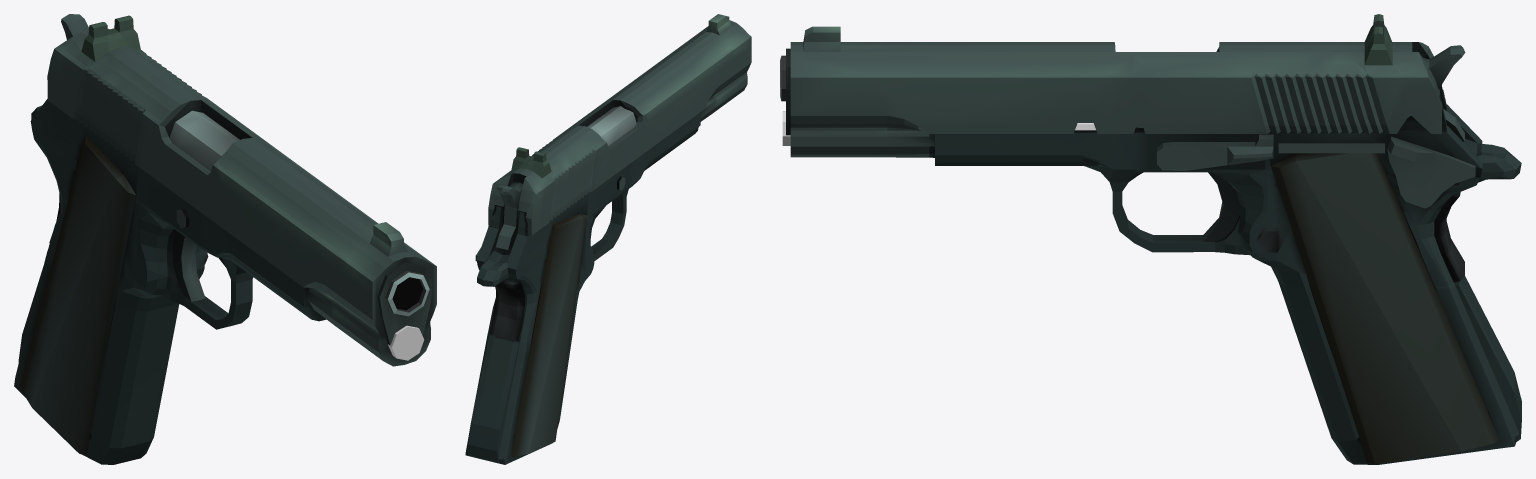
File: colt_1911_a1_fixed.FBX
3 views of the same model, side by side, from view 1: azimuth 30°, elevation 25°; view 2: azimuth 150°, elevation 25°; view 3: azimuth 270°, elevation 25° (orthographic). The views are drawn at different scales.
Parts seen in each view (by area): view 1: slide, reciever, stock, barrel, barrel bushing, trigger, recoil spring plug, hammer; view 2: slide, reciever, stock, grip safety, hammer, barrel; view 3: slide, stock, reciever, safety, slide stop, grip safety, trigger, plunger tube, hammer.
Boxes of the visible parts, bbox=[...] form: slide: bbox=[47, 15, 436, 366]; reciever: bbox=[14, 99, 326, 464]; stock: bbox=[20, 135, 135, 455]; barrel: bbox=[169, 110, 429, 316]; barrel bushing: bbox=[377, 262, 432, 345]; trigger: bbox=[173, 231, 205, 301]; recoil spring plug: bbox=[388, 325, 424, 360]; hammer: bbox=[61, 14, 88, 39]; slide: bbox=[488, 14, 751, 235]; reciever: bbox=[465, 112, 700, 464]; stock: bbox=[511, 214, 586, 456]; grip safety: bbox=[489, 280, 524, 340]; hammer: bbox=[496, 182, 523, 249]; barrel: bbox=[587, 106, 636, 146]; slide: bbox=[790, 14, 1441, 157]; stock: bbox=[1271, 142, 1499, 464]; reciever: bbox=[935, 85, 1521, 464]; safety: bbox=[1387, 136, 1475, 208]; slide stop: bbox=[1157, 134, 1273, 170]; grip safety: bbox=[1434, 192, 1464, 282]; trigger: bbox=[1202, 172, 1239, 241]; plunger tube: bbox=[1278, 143, 1384, 153]; hammer: bbox=[1422, 45, 1465, 141].
Bounding box in the file's own units: 0.0273 × 0.1279 × 0.2.
